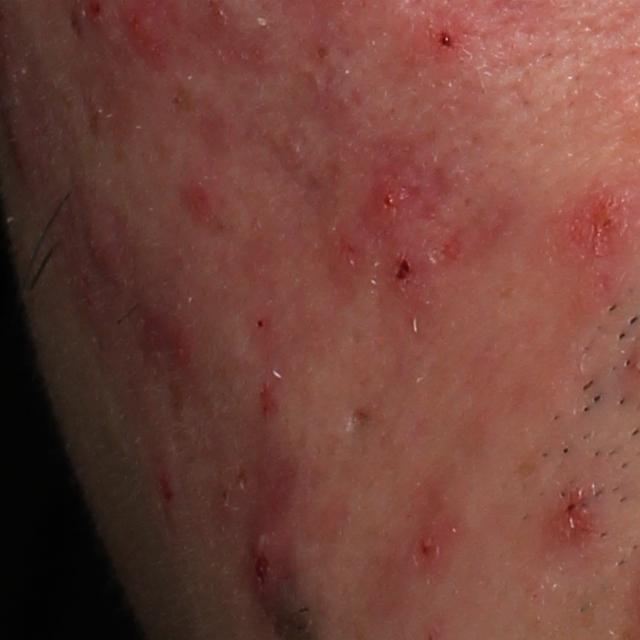atrophic_scar: (349, 407, 373, 432)
comedo: (314, 44, 327, 60)
papule: (562, 190, 628, 260), (75, 208, 131, 284), (244, 520, 290, 612), (123, 1, 181, 66), (538, 483, 600, 543), (377, 242, 428, 301), (146, 312, 197, 370), (174, 174, 220, 229), (256, 378, 282, 417)
